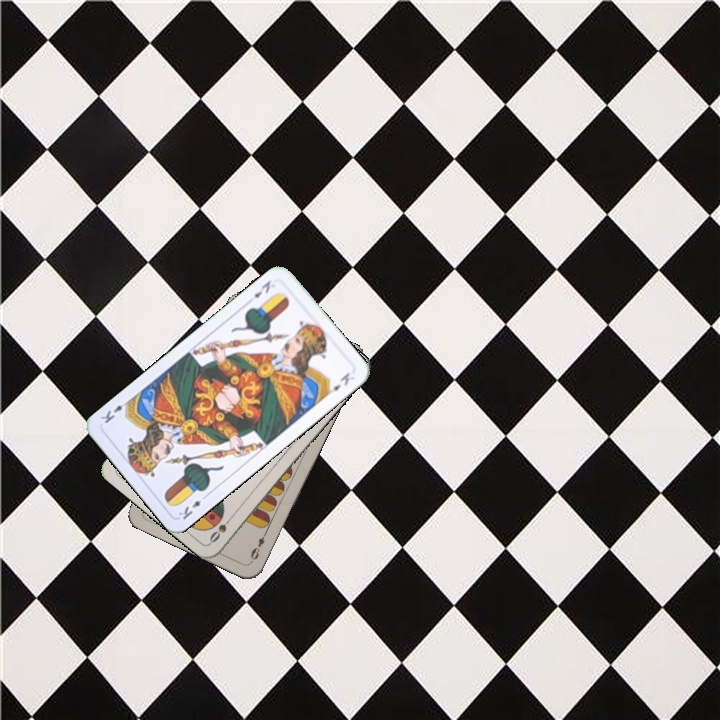E9: (246, 527, 270, 563)
EK: (174, 490, 210, 523), (250, 276, 274, 300)
SO: (205, 511, 236, 545)
